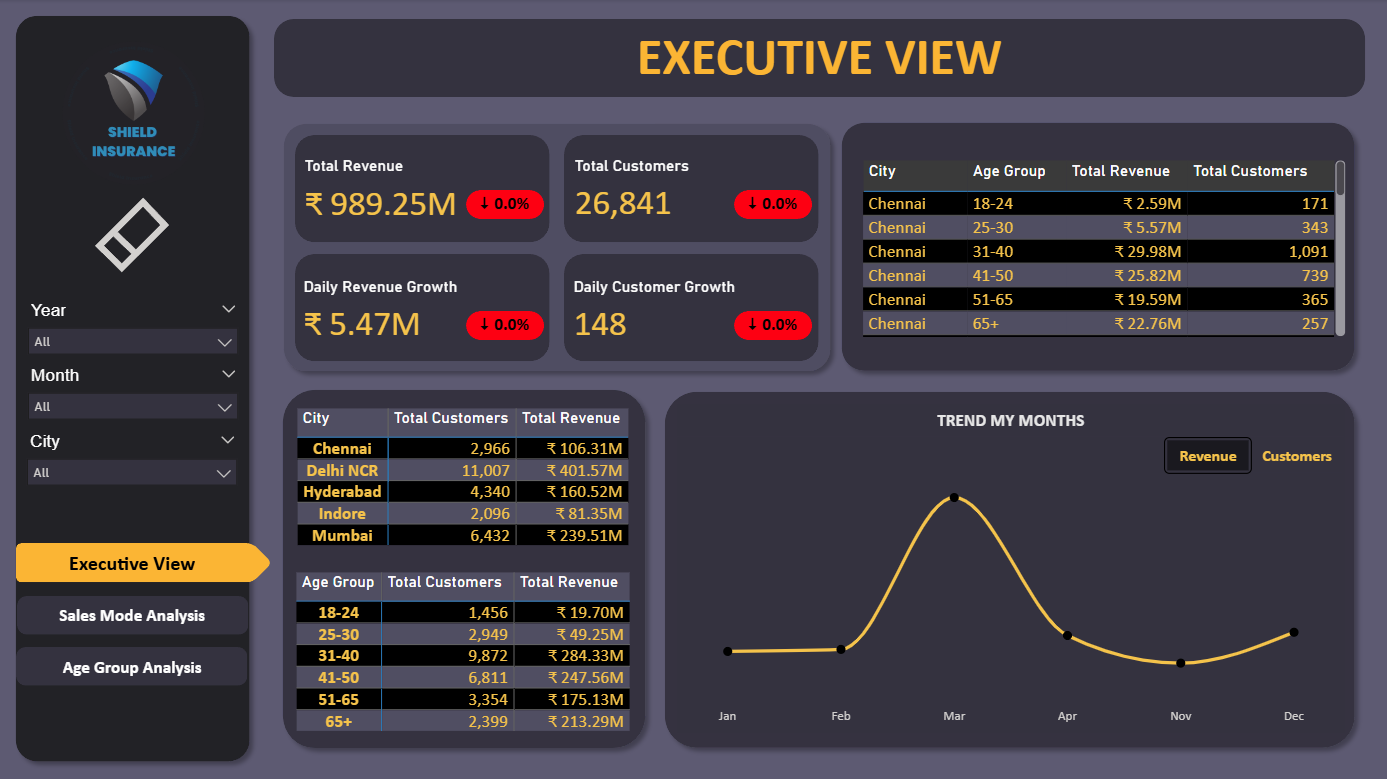

The dashboard page shown, as its layout file describes it:
{"tool":"powerbi","page":{"name":"executive view","canvas":[1280,720],"ordinal":0},"visuals":[{"type":"shape","box":[767.8,105,490.3,246.5],"z":0},{"type":"shape","box":[253.1,106,521.7,245.9],"z":1000},{"type":"shape","box":[272.6,125.5,234.6,98.8],"z":2000},{"type":"shape","box":[430.1,175.9,72,26.8],"z":3000},{"type":"cardVisual","fields":{"Data":["Key Measures.Total Revenue MOM %"]},"box":[423.9,169.8,83.3,39.1],"z":4000},{"type":"shape","box":[253.2,18.2,1005.6,71.9],"z":5000},{"type":"textbox","box":[253.2,18.2,1005.6,71.9],"z":6000},{"type":"shape","box":[6.8,6.8,233.4,705.2],"z":7000},{"type":"image","box":[16.5,33.1,215,144],"z":8000},{"type":"cardVisual","fields":{"Data":["Key Measures.Total Revenue"]},"box":[271.6,135.8,167.7,78.2],"z":9000},{"type":"slicer","fields":{"Values":["dim_date.year"]},"box":[16.4,272.6,214.2,72.9],"z":10000},{"type":"slicer","fields":{"Values":["dim_date.month"]},"box":[16.4,332.8,214.2,72],"z":11000},{"type":"shape","box":[520.6,234.6,234.6,98.8],"z":12000},{"type":"actionButton","box":[15.5,178.7,214.2,78.4],"z":13000},{"type":"shape","box":[272.7,234.6,234.6,98.8],"z":14000},{"type":"shape","box":[520.6,125.5,234.6,98.8],"z":15000},{"type":"cardVisual","fields":{"Data":["Key Measures.Daily Customer Growth"]},"box":[520.6,248,167.7,78.2],"z":16000},{"type":"cardVisual","fields":{"Data":["Key Measures.Total Customers"]},"box":[520.6,135.8,167.7,78.2],"z":17000},{"type":"shape","box":[677,287.1,72,26.8],"z":18000},{"type":"cardVisual","fields":{"Data":["Key Measures.Daily Customer Growth MOM %"]},"box":[670.9,280.9,83.3,39.1],"z":19000},{"type":"cardVisual","fields":{"Data":["Key Measures.Daily Revenue Growth"]},"box":[271.6,248,167.7,78.2],"z":20000},{"type":"shape","box":[430.1,287.1,72,26.8],"z":21000},{"type":"cardVisual","fields":{"Data":["Key Measures.Daily Revenue Growth MOM %"]},"box":[423.9,280.9,83.3,39.1],"z":22000},{"type":"shape","box":[677,175.9,72,26.8],"z":23000},{"type":"cardVisual","fields":{"Data":["Key Measures.Total Customers MOM %"]},"box":[670.9,169.8,83.3,39.1],"z":24000},{"type":"shape","box":[252.9,351.1,352.1,348.2],"z":25000},{"type":"pivotTable","fields":{"Rows":["dim_customer.city"],"Values":["Key Measures.Total Customers","Key Measures.Total Revenue"]},"box":[270.4,372.5,316.1,141],"z":26000},{"type":"pivotTable","fields":{"Values":["Key Measures.Total Customers","Key Measures.Total Revenue"],"Rows":["dim_customer.age_group"]},"box":[269.3,523.1,317.7,160.7],"z":27000},{"type":"shape","box":[604.4,353.3,653.7,346],"z":28000},{"type":"lineChart","fields":{"Y":["Key Measures.Total Revenue"],"Category":["dim_date.month"]},"box":[624.5,403.5,615.3,273],"z":29000},{"type":"textbox","box":[624.5,373.4,615.3,30.1],"z":31000},{"type":"actionButton","title":"Revenue","box":[1073.7,403.5,81.3,33.8],"z":32000},{"type":"actionButton","title":"Revenue","box":[1154.9,404.5,83.1,32],"z":35000},{"type":"tableEx","fields":{"Values":["dim_customer.city","dim_customer.age_group","Key Measures.Total Revenue","Key Measures.Total Customers"]},"box":[790.6,143.3,455,172],"z":36000},{"type":"slicer","fields":{"Values":["dim_customer.city"]},"box":[15.5,393.8,214.2,72],"z":37000},{"type":"shape","box":[15.5,501.4,236.1,36.5],"z":38000},{"type":"shape","box":[16.4,549.7,213.3,35.6],"z":39000},{"type":"shape","box":[15.5,597.2,213.3,35.6],"z":40000},{"type":"actionButton","box":[16.4,501.4,212.4,36.5],"z":41000},{"type":"actionButton","box":[16.4,548.8,212.4,36.5],"z":42000},{"type":"actionButton","box":[16.4,597.2,212.4,36.5],"z":43000}]}

Visuals, with their boxes in screenshot pixels (x1, y1, x2, y2), scaled from the page's 1280x720 canvas onto the 1387x779 screenshot:
shape: l=832, t=114, r=1363, b=380
shape: l=274, t=115, r=840, b=381
shape: l=295, t=136, r=550, b=243
shape: l=466, t=190, r=544, b=219
cardVisual - Key Measures.Total Revenue MOM %: l=459, t=184, r=550, b=226
shape: l=274, t=20, r=1364, b=97
textbox: l=274, t=20, r=1364, b=97
shape: l=7, t=7, r=260, b=770
image: l=18, t=36, r=251, b=192
cardVisual - Key Measures.Total Revenue: l=294, t=147, r=476, b=232
slicer - dim_date.year: l=18, t=295, r=250, b=374
slicer - dim_date.month: l=18, t=360, r=250, b=438
shape: l=564, t=254, r=818, b=361
actionButton: l=17, t=193, r=249, b=278
shape: l=295, t=254, r=550, b=361
shape: l=564, t=136, r=818, b=243
cardVisual - Key Measures.Daily Customer Growth: l=564, t=268, r=746, b=353
cardVisual - Key Measures.Total Customers: l=564, t=147, r=746, b=232
shape: l=734, t=311, r=812, b=340
cardVisual - Key Measures.Daily Customer Growth MOM %: l=727, t=304, r=817, b=346
cardVisual - Key Measures.Daily Revenue Growth: l=294, t=268, r=476, b=353
shape: l=466, t=311, r=544, b=340
cardVisual - Key Measures.Daily Revenue Growth MOM %: l=459, t=304, r=550, b=346
shape: l=734, t=190, r=812, b=219
cardVisual - Key Measures.Total Customers MOM %: l=727, t=184, r=817, b=226
shape: l=274, t=380, r=656, b=757
pivotTable - dim_customer.city x Key Measures.Total Customers: l=293, t=403, r=636, b=556
pivotTable - Key Measures.Total Customers x Key Measures.Total Revenue: l=292, t=566, r=636, b=740
shape: l=655, t=382, r=1363, b=757
lineChart - Key Measures.Total Revenue x dim_date.month: l=677, t=437, r=1343, b=732
textbox: l=677, t=404, r=1343, b=437
"Revenue" actionButton: l=1163, t=437, r=1252, b=473
"Revenue" actionButton: l=1251, t=438, r=1341, b=472
tableEx - dim_customer.city x dim_customer.age_group: l=857, t=155, r=1350, b=341
slicer - dim_customer.city: l=17, t=426, r=249, b=504
shape: l=17, t=542, r=273, b=582
shape: l=18, t=595, r=249, b=633
shape: l=17, t=646, r=248, b=685
actionButton: l=18, t=542, r=248, b=582
actionButton: l=18, t=594, r=248, b=633
actionButton: l=18, t=646, r=248, b=686
